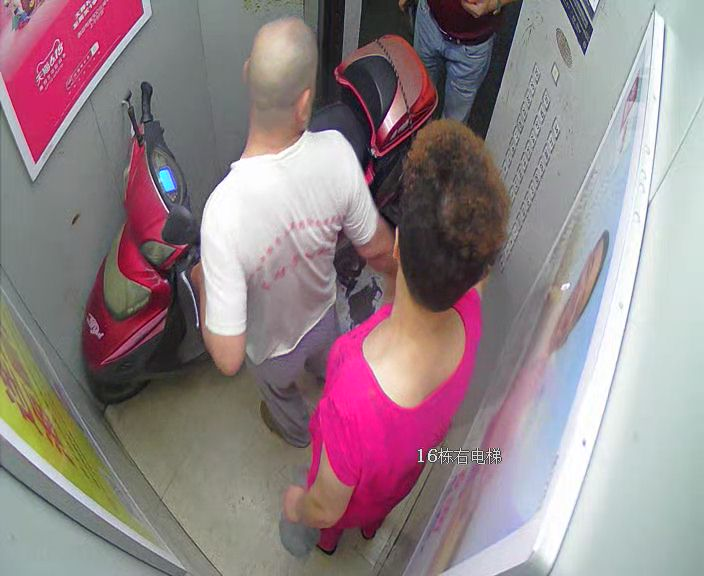Electric-bicycle: (80, 32, 436, 401)
